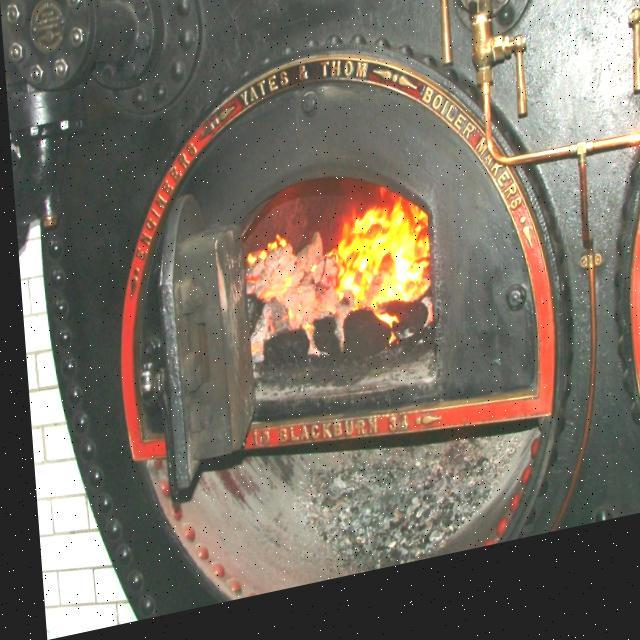Fire: (290, 188, 440, 342)
